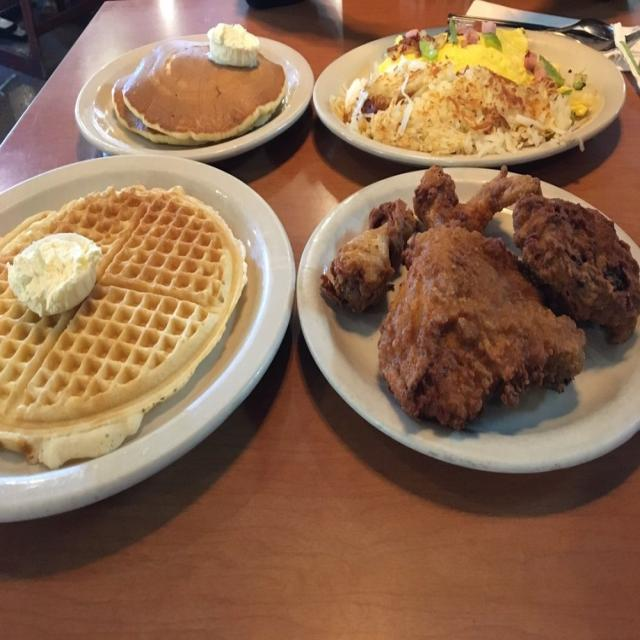Chicken Wings: (319, 166, 528, 315)
Omelette: (339, 25, 581, 150)
Pancakes: (110, 42, 288, 143)
Waffles: (0, 180, 246, 469)
